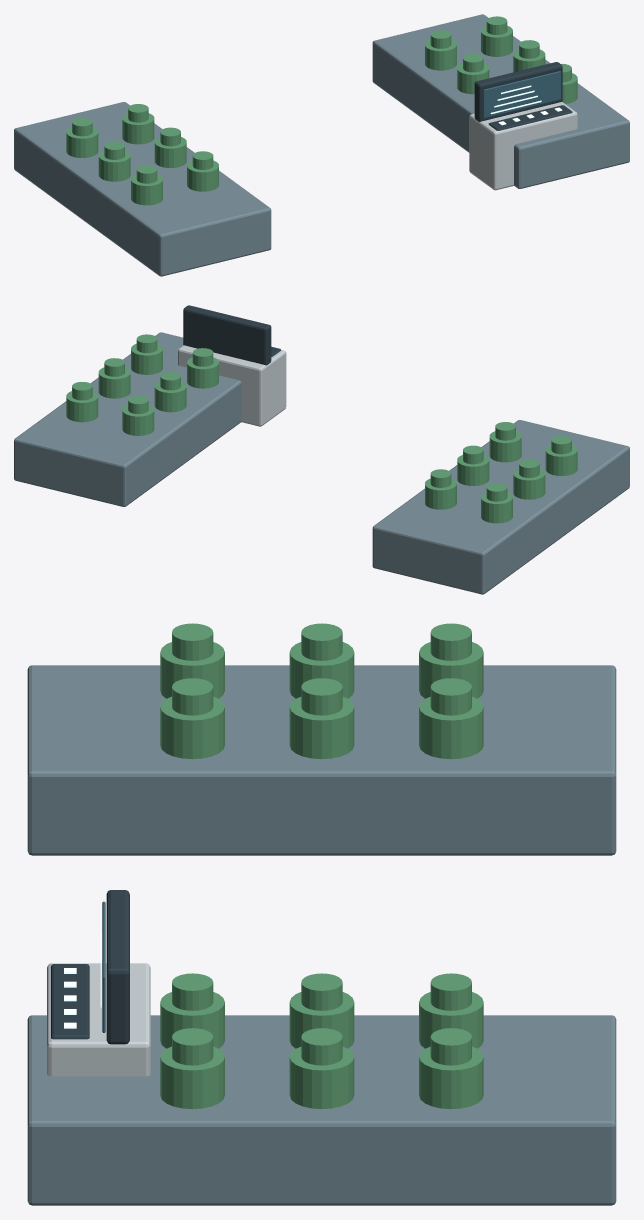
Rendered from greenhouse-interior.glb.
3 views of the same model, one above another, from view 1: azimuth 30°, elevation 25°; view 2: azimuth 150°, elevation 25°; view 3: azimuth 270°, elevation 25° (orthographic). The views are drawn at different scales.
Parts seen in each view (by area): view 1: Furniture_Steel, Furniture_Leaf, Furniture_Ivory, Furniture_Dark, Furniture_Glass, Furniture_Accent; view 2: Furniture_Steel, Furniture_Leaf, Furniture_Dark, Furniture_Ivory; view 3: Furniture_Steel, Furniture_Leaf, Furniture_Ivory, Furniture_Dark.
Boxes of the visible parts, left/top/right/bottom form: Furniture_Steel: left=14, top=14, right=629, bottom=276; Furniture_Leaf: left=66, top=16, right=577, bottom=205; Furniture_Ivory: left=469, top=102, right=577, bottom=190; Furniture_Dark: left=474, top=62, right=572, bottom=130; Furniture_Glass: left=483, top=71, right=560, bottom=118; Furniture_Accent: left=490, top=85, right=562, bottom=125; Furniture_Steel: left=14, top=332, right=629, bottom=594; Furniture_Leaf: left=66, top=334, right=577, bottom=523; Furniture_Dark: left=183, top=305, right=280, bottom=365; Furniture_Ivory: left=178, top=345, right=286, bottom=426; Furniture_Steel: left=27, top=665, right=616, bottom=1205; Furniture_Leaf: left=160, top=623, right=483, bottom=1109; Furniture_Ivory: left=47, top=963, right=150, bottom=1076; Furniture_Dark: left=51, top=890, right=129, bottom=1044.
Size of the model in its own units: 8.4 by 1.62 by 4.55.
